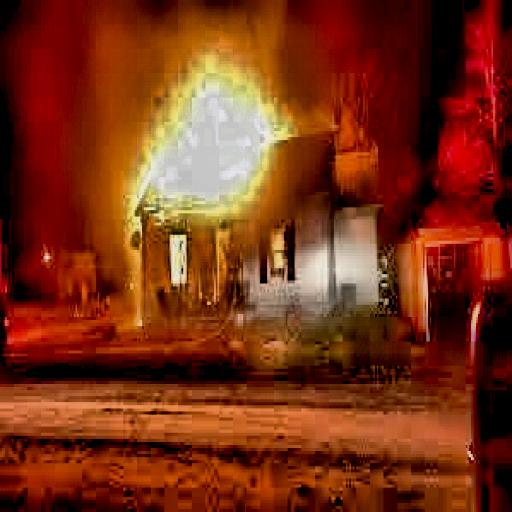fire: (128, 58, 312, 235)
